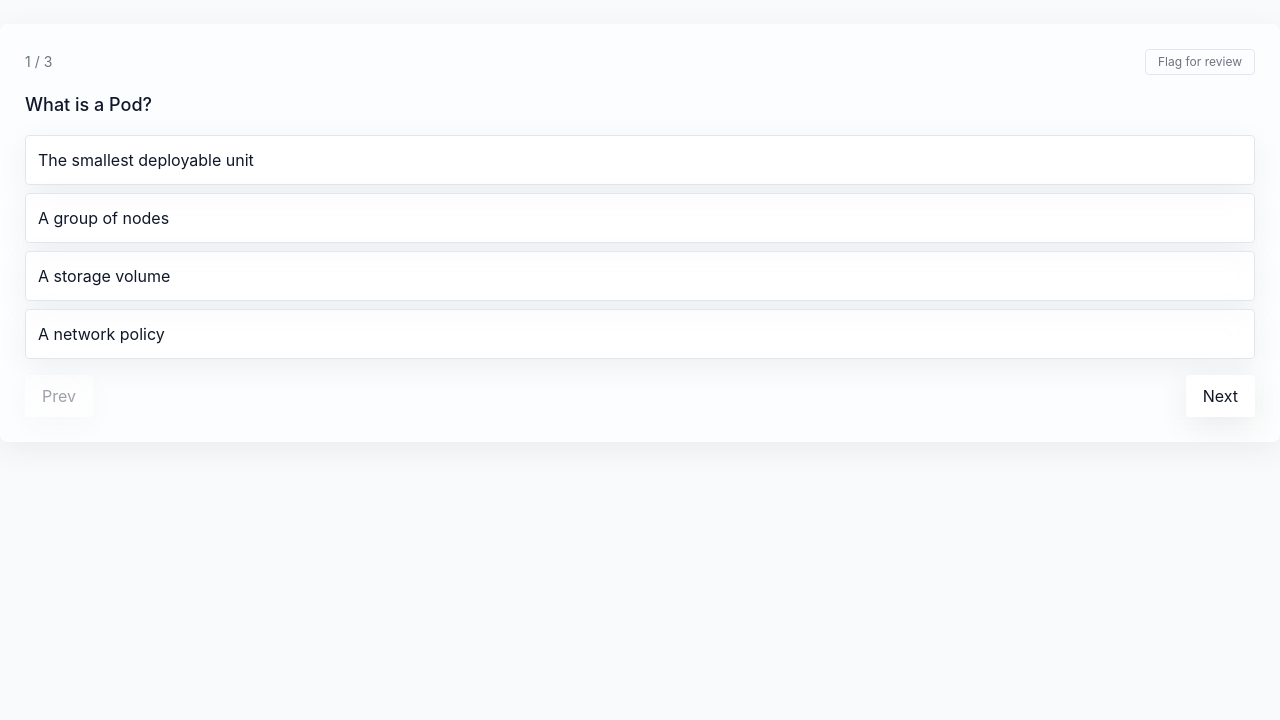
QuizBlock Phase 3 scaffolds › quiz_per_question_feedback_incorrect — picking the wrong answer reveals correct option + explanation
# o1 is wrong on Q1
Click the button "A group of nodes": (104, 218) [25, 193, 1255, 243]
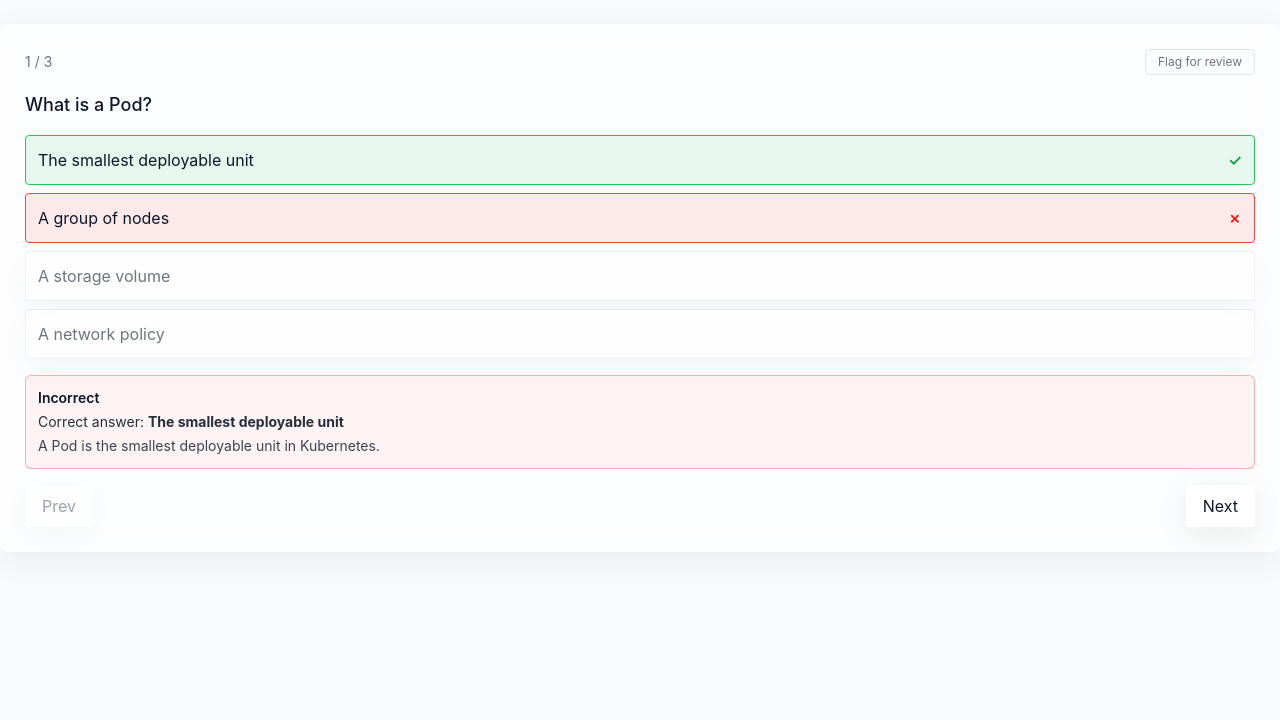
Check: the element with test id "answer-feedback" shows "Incorrect", box [38, 389, 100, 406]
Check: the element with test id "answer-feedback" shows "The smallest deployable unit", box [148, 413, 344, 430]
Check: the element with test id "answer-feedback" shows "A Pod is the smallest deployable unit in Kubernetes.", box [38, 437, 380, 454]
